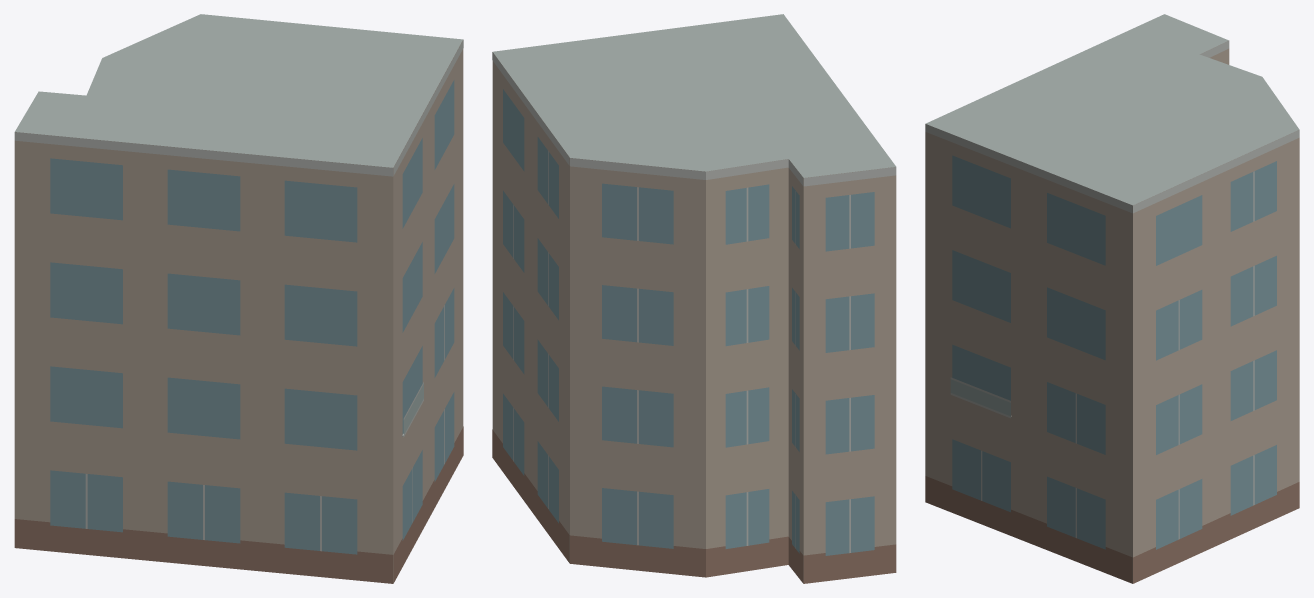
File: survey-upis-32993131.glb
The picture shows the model from 3 angles, left to right: view 1: azimuth 30°, elevation 25°; view 2: azimuth 150°, elevation 25°; view 3: azimuth 270°, elevation 25°; orthographic projection. The views are drawn at different scales.
Visible parts, largest first — view 1: survey-upis-32993131.tmp; view 2: survey-upis-32993131.tmp; view 3: survey-upis-32993131.tmp.
Part boxes in pixels (bbox=[...]): survey-upis-32993131.tmp: bbox=[14, 14, 463, 583]; survey-upis-32993131.tmp: bbox=[492, 14, 896, 583]; survey-upis-32993131.tmp: bbox=[925, 14, 1299, 583].
Size of the model in its own units: 12.54 by 11.55 by 10.36.
